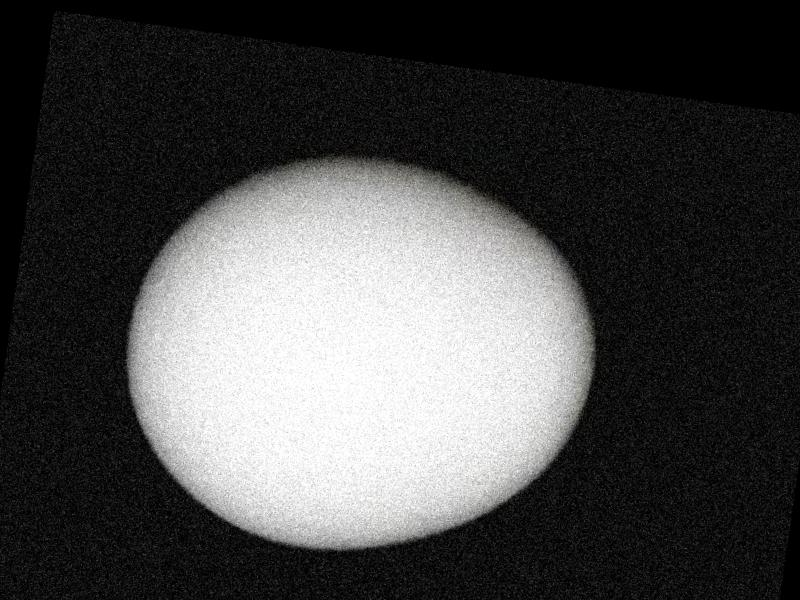Eggs: (100, 136, 611, 580)
